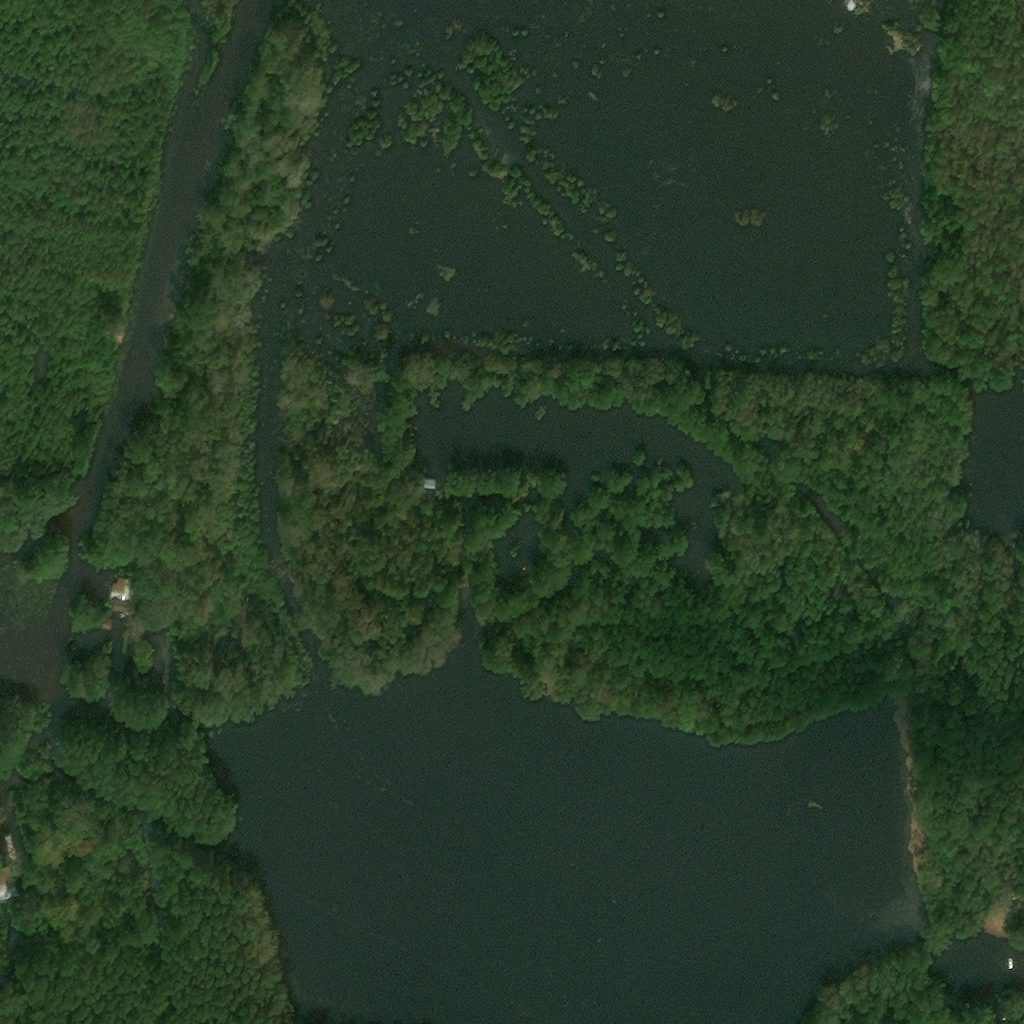major_damage: (109, 576, 126, 610), (0, 867, 16, 901), (3, 836, 19, 866), (422, 479, 438, 488), (102, 620, 114, 630)
